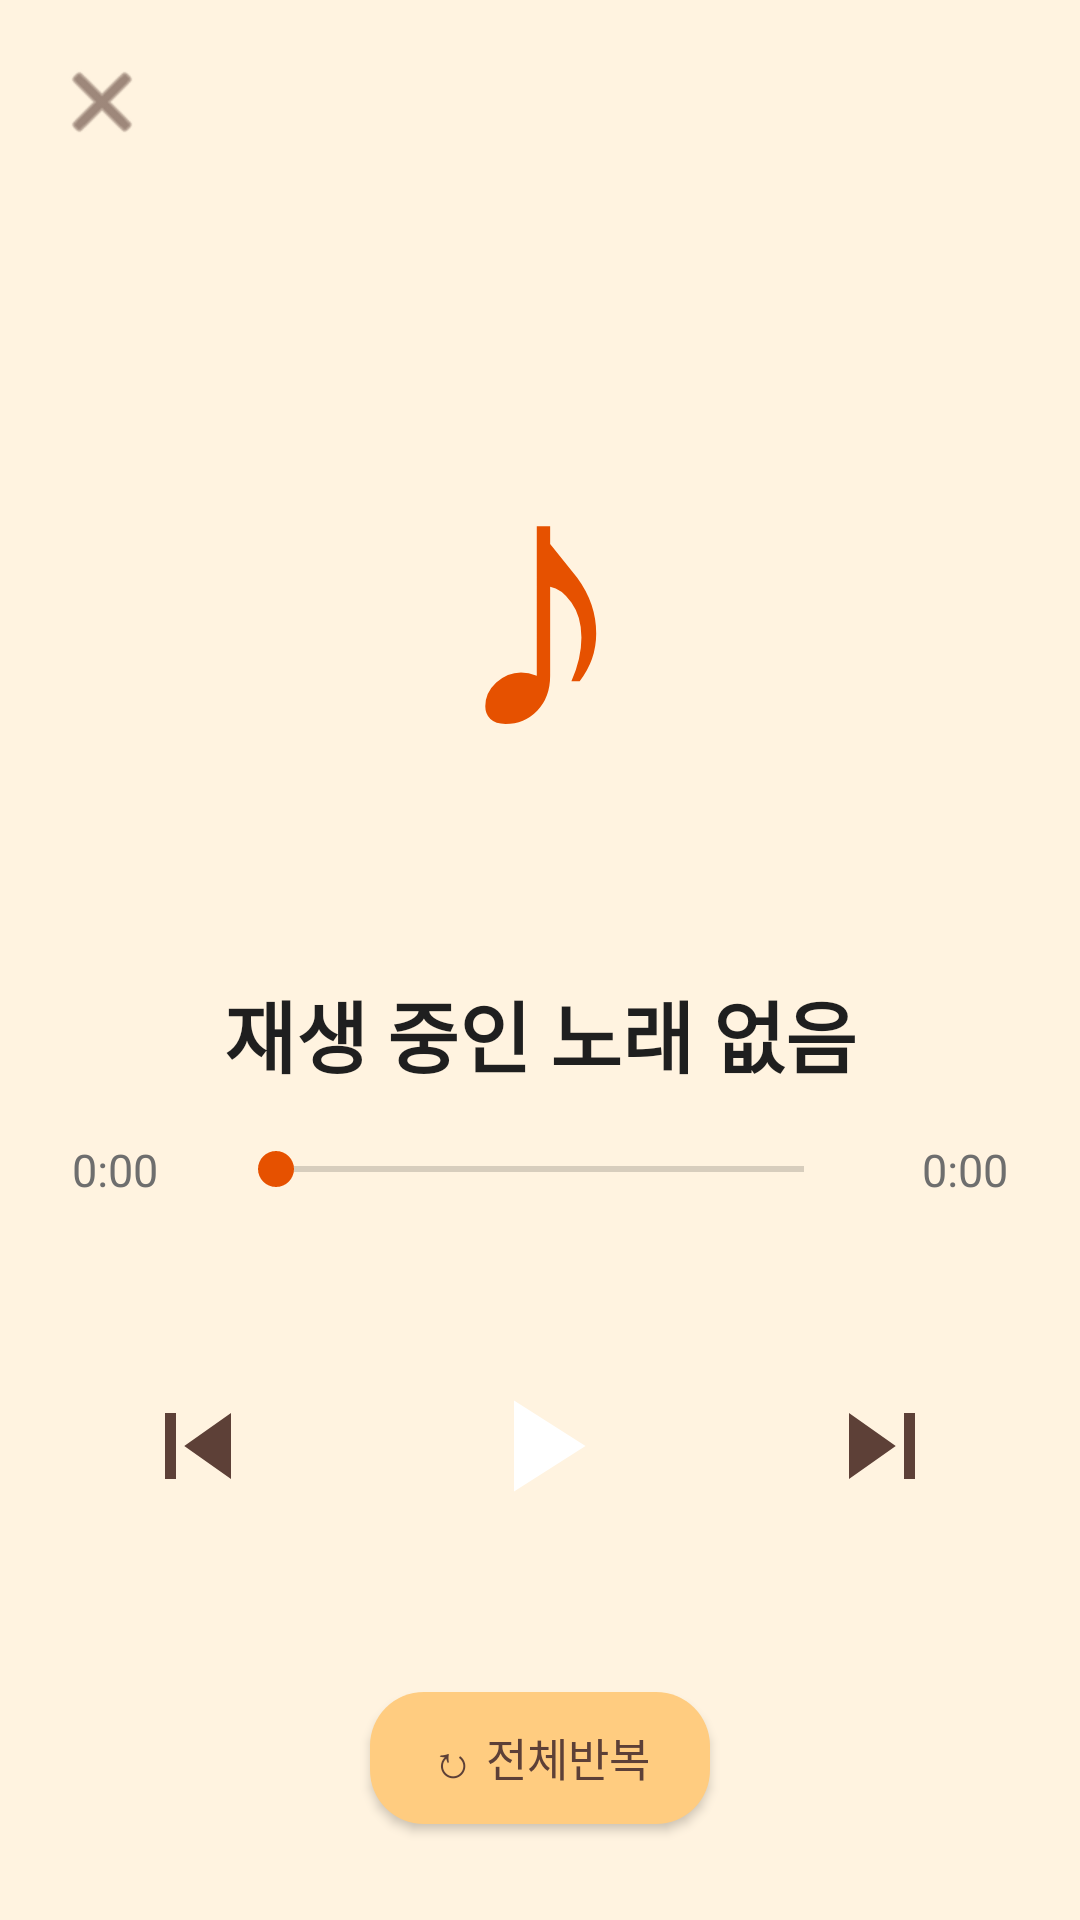

Locate icon controls on the screen. Image size 1080 × 1920, boxes as (x1, y1, x2, y2).
다음 곡: (849, 1413, 915, 1479)
이전 곡: (165, 1413, 231, 1479)
재생/일시정지: (514, 1401, 584, 1491)
